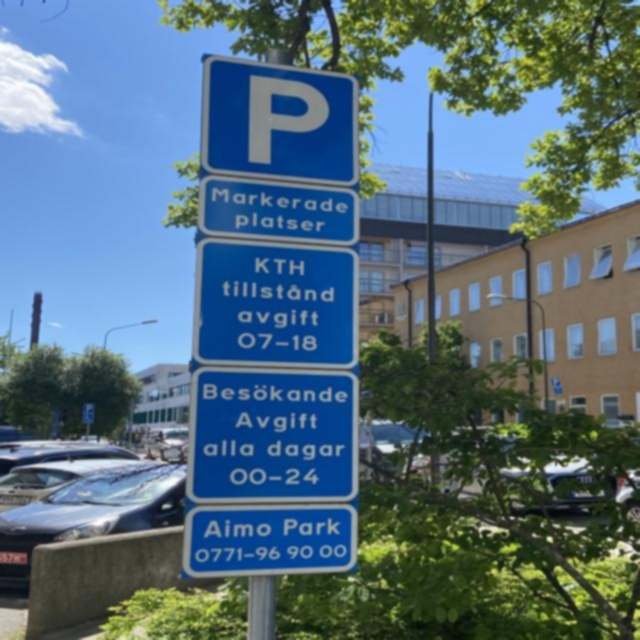P-skylt: (199, 51, 365, 190)
